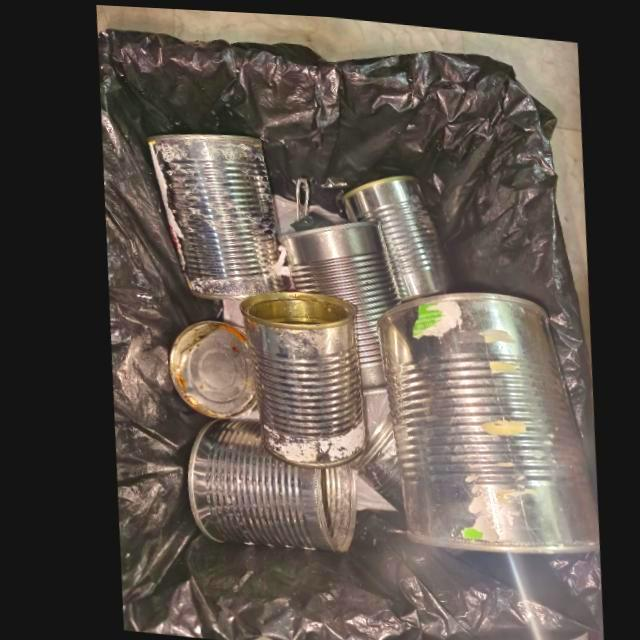aluminum: (371, 287, 589, 548), (177, 417, 356, 556), (144, 133, 286, 299), (235, 289, 360, 467), (276, 219, 394, 391), (339, 171, 453, 298), (163, 320, 246, 417), (345, 408, 396, 518)
